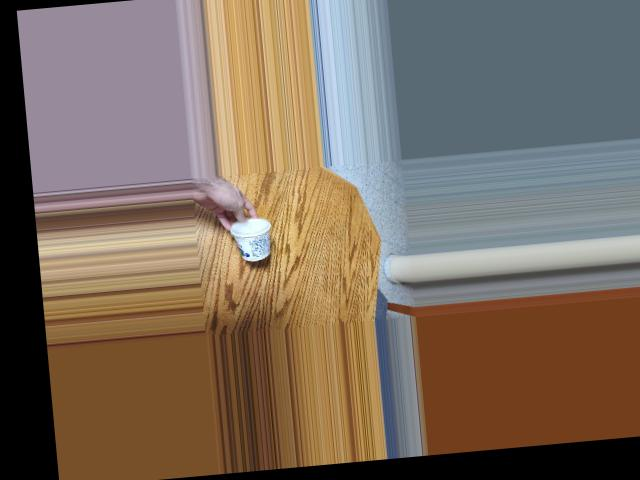cotage: (227, 209, 277, 257)
